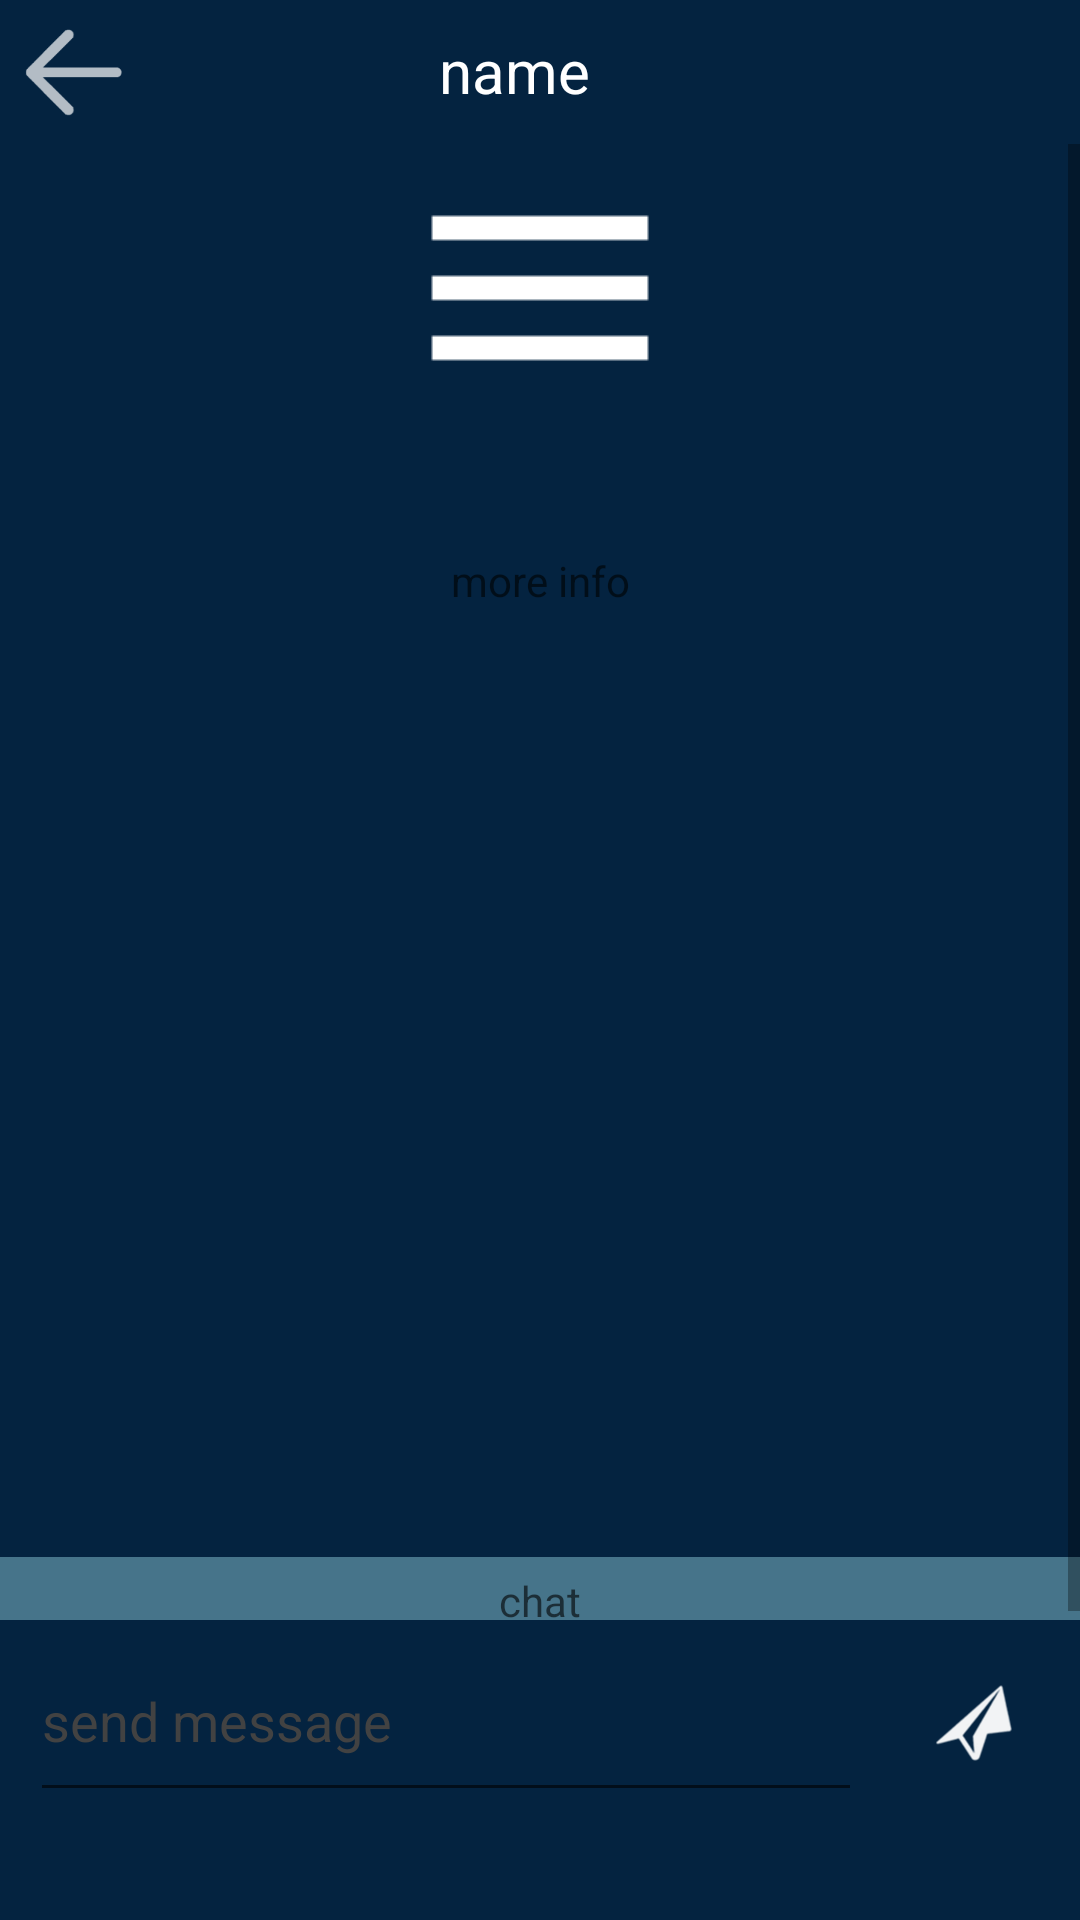

Where to tap for icons on this 1080 x 1920 app screen, as point (x, y):
arrow left wite: point (74, 72)
menu: point (540, 288)
send wite: point (974, 1723)
